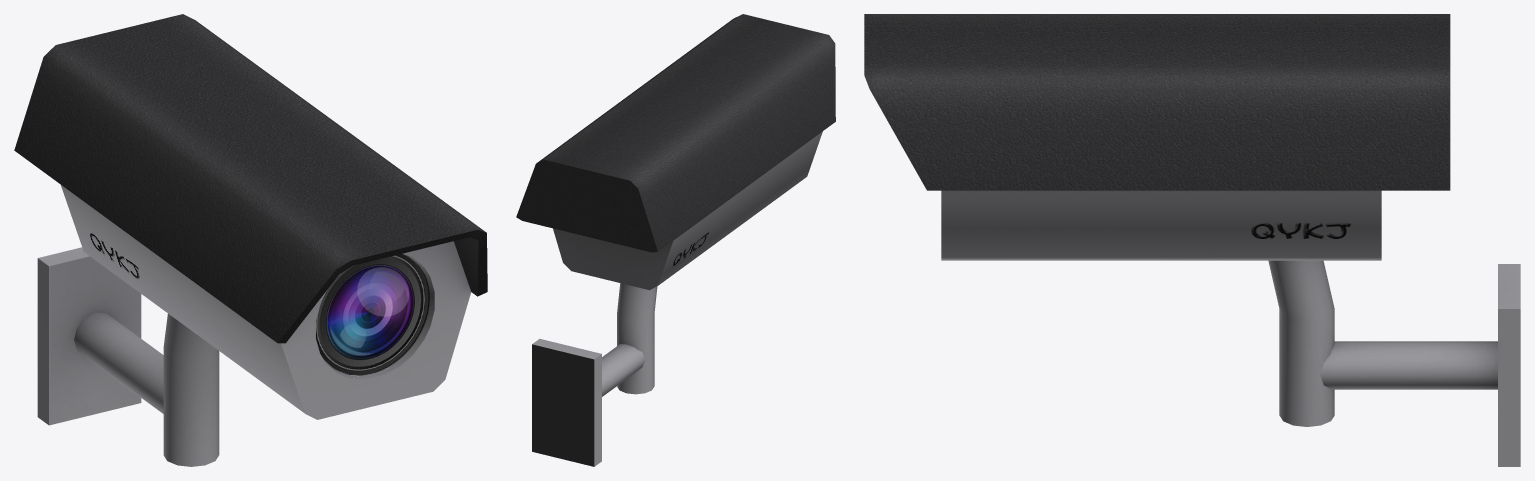
The model's file is Gun_camera.1998521.glb.
The picture shows the model from 3 angles, left to right: view 1: azimuth 30°, elevation 25°; view 2: azimuth 150°, elevation 25°; view 3: azimuth 270°, elevation 25°; orthographic projection. The views are drawn at different scales.
Visible parts, largest first — view 1: Gun camera; view 2: Gun camera; view 3: Gun camera.
Boxes of the visible parts, <box> form: Gun camera: <box>14,14,487,466</box>; Gun camera: <box>516,14,835,466</box>; Gun camera: <box>864,14,1520,466</box>.
Size of the model in its own units: 0.5318 by 0.973 by 1.45.
1 material, 1 textured.
